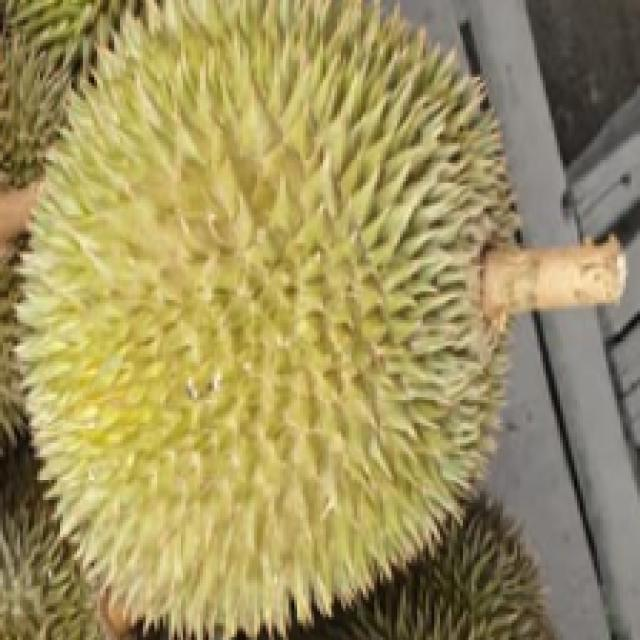d101: (38, 29, 541, 584)
